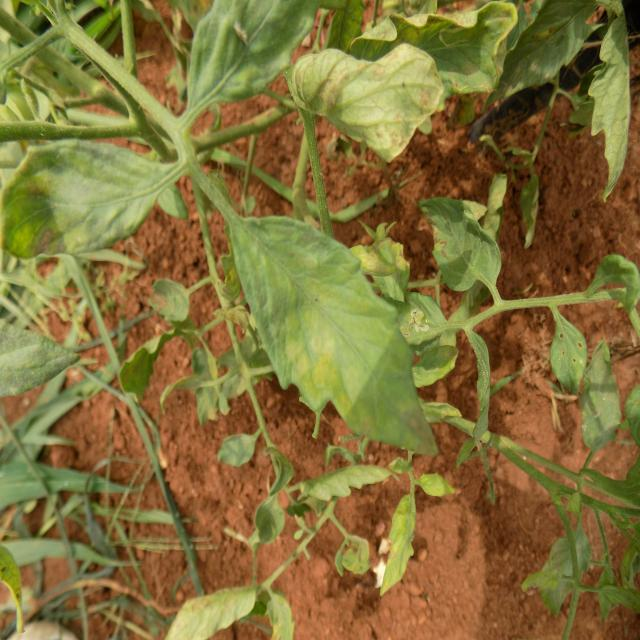tomato_healthy: (227, 214, 438, 459)
